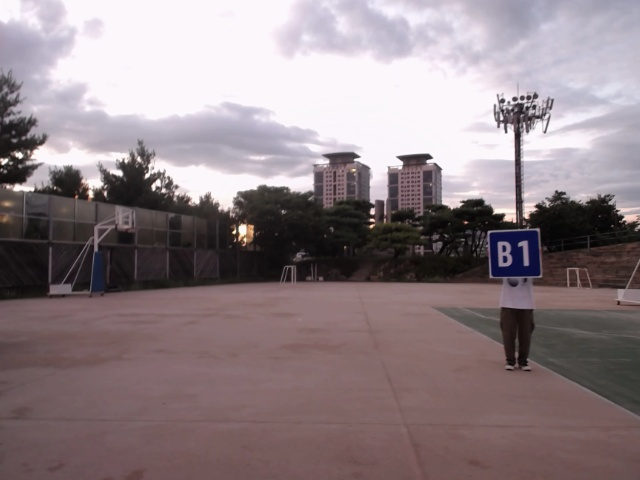delivery_b1: (488, 231, 540, 278)
